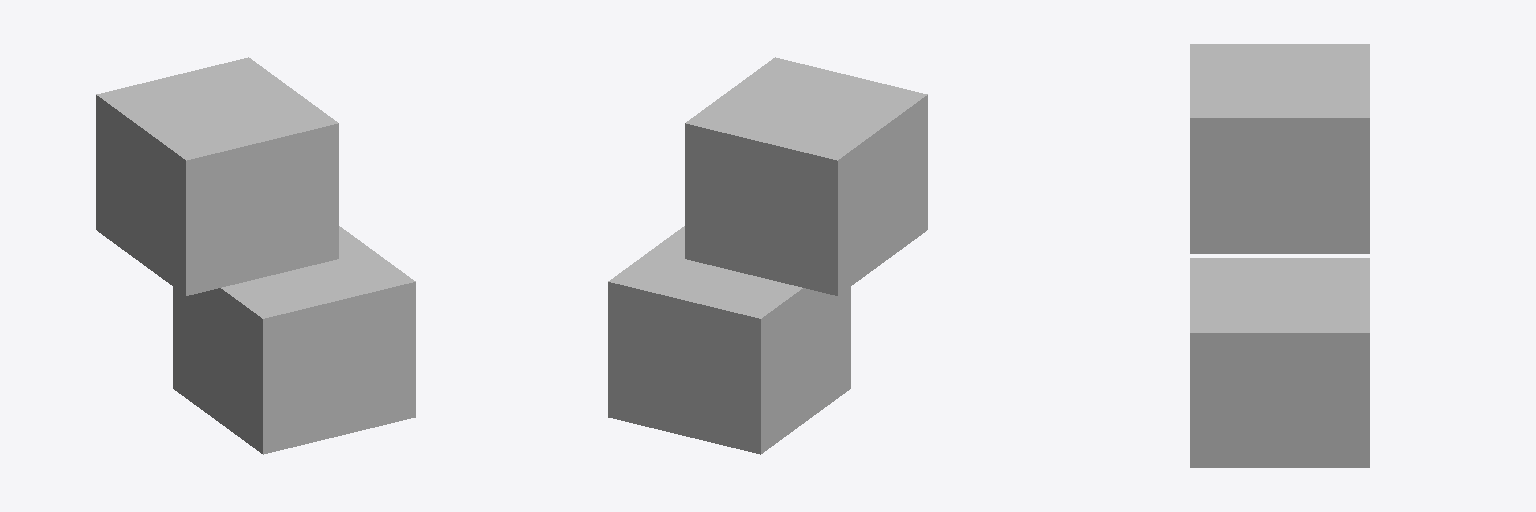
File: tex.obj
3 views of the same model, side by side, from view 1: azimuth 30°, elevation 25°; view 2: azimuth 150°, elevation 25°; view 3: azimuth 270°, elevation 25° (orthographic).
Visible parts, largest first — view 1: object_1, object_2; view 2: object_1, object_2; view 3: object_1, object_2.
Part boxes in pixels (left/top/right/bottom): object_1: left=96, top=57, right=338, bottom=295; object_2: left=173, top=226, right=415, bottom=454; object_1: left=685, top=57, right=927, bottom=295; object_2: left=608, top=226, right=850, bottom=454; object_1: left=1190, top=44, right=1369, bottom=253; object_2: left=1190, top=258, right=1369, bottom=467.
Bounding box in the file's own units: 10.23 × 13.33 × 6.97.